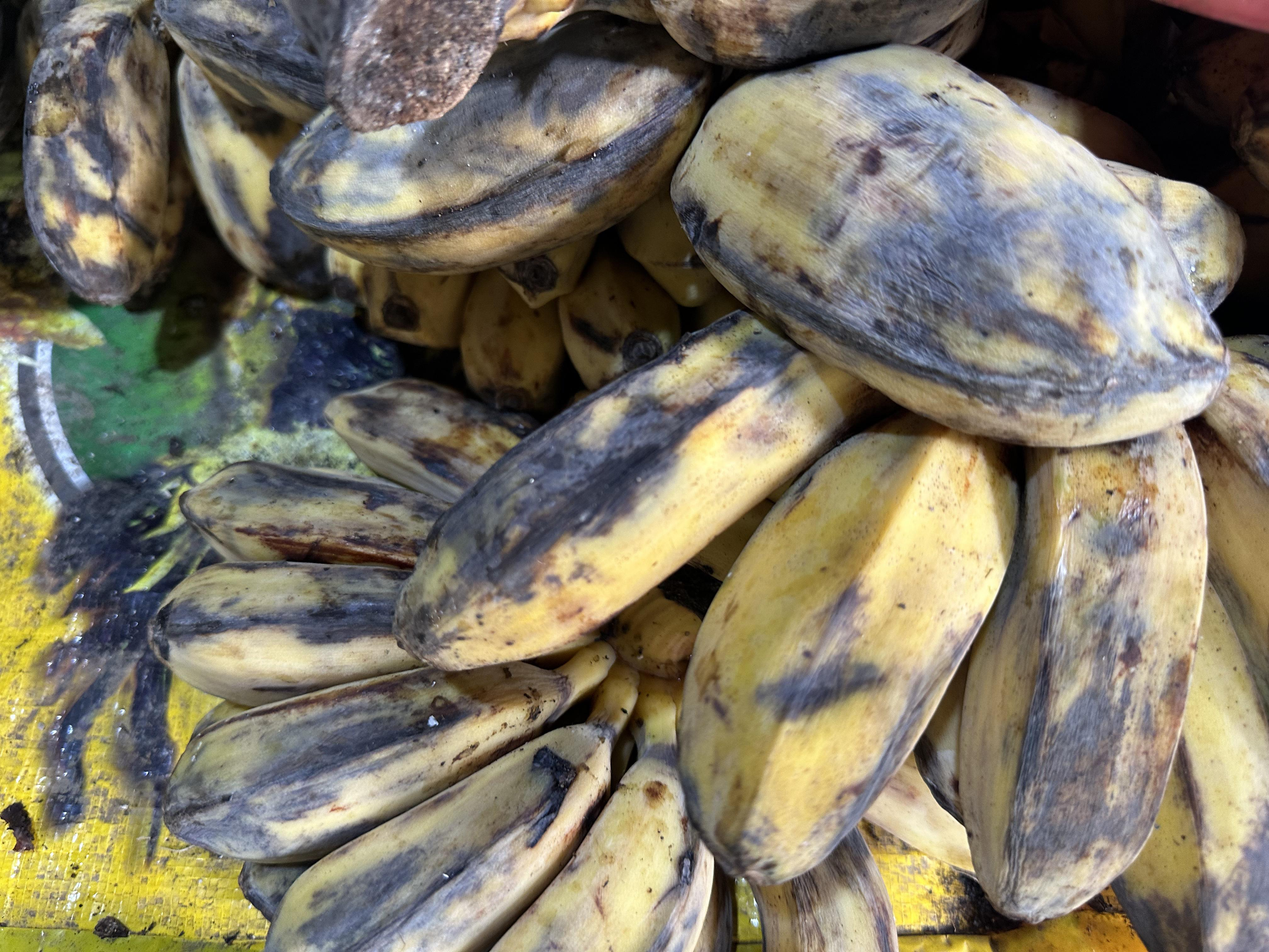ripe: (396, 311, 1269, 952), (272, 0, 1228, 446), (151, 379, 719, 952), (16, 0, 328, 304), (329, 192, 732, 416)
